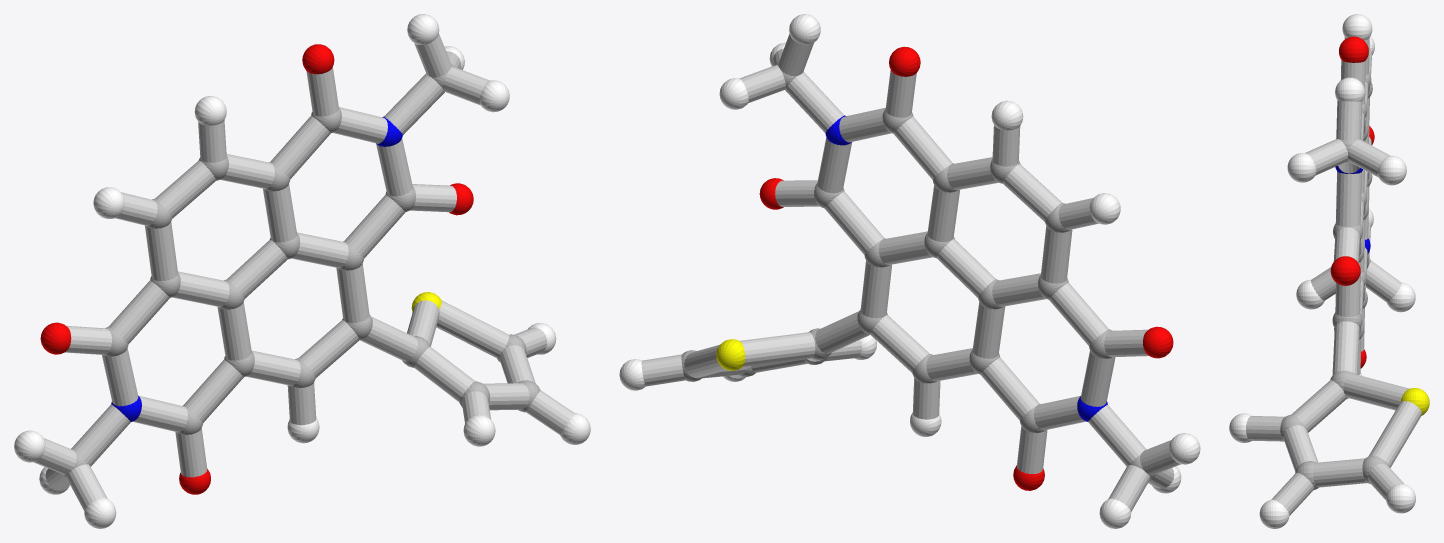
File: Dimethyl_Naphthalene_Dicarboximide_Phi_10_Theta_110_Thiophene.glb
3 renders of one model, left to right at view 1: azimuth 30°, elevation 25°; view 2: azimuth 150°, elevation 25°; view 3: azimuth 270°, elevation 25°, orthographic. The views are drawn at different scales.
Visible parts, largest first — view 1: grp14119, grp7241, grp1, grp12309, grp11585; view 2: grp14119, grp7241, grp1, grp12309, grp13757, grp11585; view 3: grp14119, grp7241, grp1, grp12309, grp13757.
Part boxes in pixels (bbox=[...]): grp14119: bbox=[34, 34, 574, 510]; grp7241: bbox=[14, 14, 590, 528]; grp1: bbox=[61, 64, 540, 478]; grp12309: bbox=[40, 44, 473, 494]; grp11585: bbox=[111, 116, 402, 421]; grp14119: bbox=[641, 34, 1180, 511]; grp7241: bbox=[619, 14, 1200, 528]; grp1: bbox=[681, 62, 1155, 478]; grp12309: bbox=[759, 46, 1173, 490]; grp13757: bbox=[716, 339, 745, 370]; grp11585: bbox=[825, 115, 1107, 421]; grp14119: bbox=[1246, 37, 1421, 515]; grp7241: bbox=[1229, 14, 1415, 528]; grp1: bbox=[1280, 72, 1389, 489]; grp12309: bbox=[1330, 36, 1374, 368]; grp13757: bbox=[1401, 388, 1429, 415].
Bounding box in the file's own units: 12.1 × 8.78 × 4.01.
